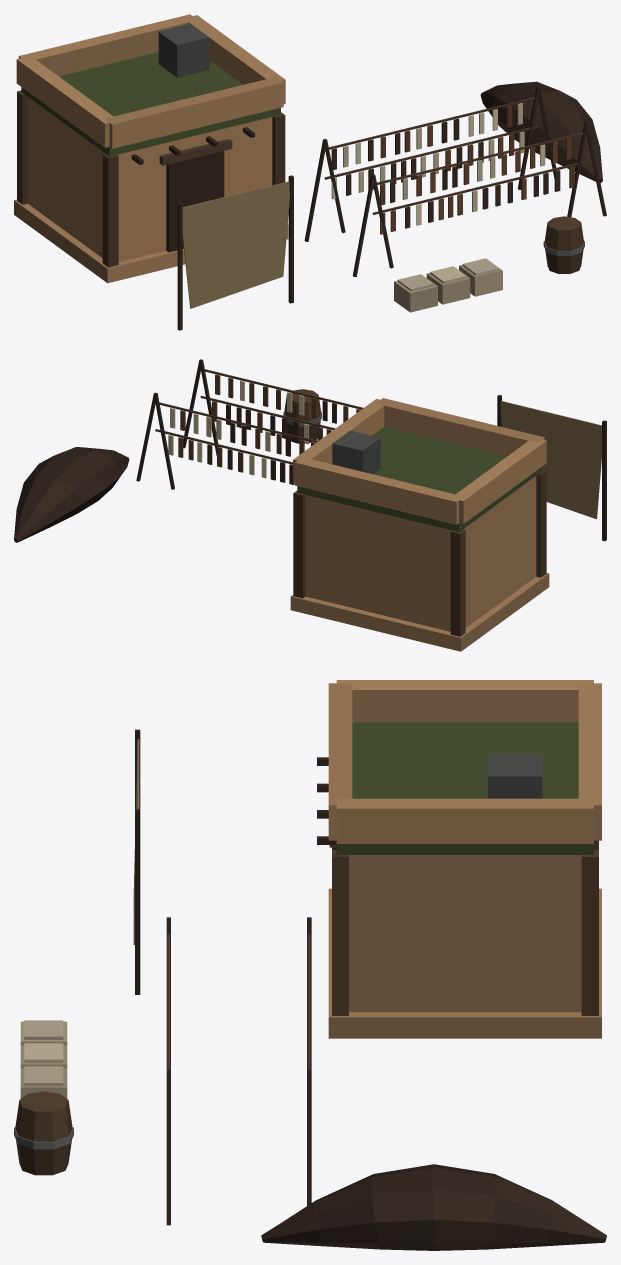
The model's file is walk_steppe_fishery.glb.
3 views of the same model, one above another, from view 1: azimuth 30°, elevation 25°; view 2: azimuth 150°, elevation 25°; view 3: azimuth 270°, elevation 25° (orthographic). The views are drawn at different scales.
Parts seen in each view (by area): view 1: walk_steppe_fishery, walk_steppe_fishery_roof; view 2: walk_steppe_fishery, walk_steppe_fishery_roof; view 3: walk_steppe_fishery, walk_steppe_fishery_roof.
Boxes of the visible parts, bbox=[...] form: walk_steppe_fishery: bbox=[14, 81, 606, 330]; walk_steppe_fishery_roof: bbox=[16, 14, 285, 156]; walk_steppe_fishery: bbox=[14, 359, 606, 651]; walk_steppe_fishery_roof: bbox=[293, 398, 546, 531]; walk_steppe_fishery: bbox=[14, 729, 606, 1250]; walk_steppe_fishery_roof: bbox=[328, 680, 601, 854].
Size of what is drawn, in the model's own units: 10.9 by 3.47 by 7.6.
Materials: 2 (2 with a texture image).
